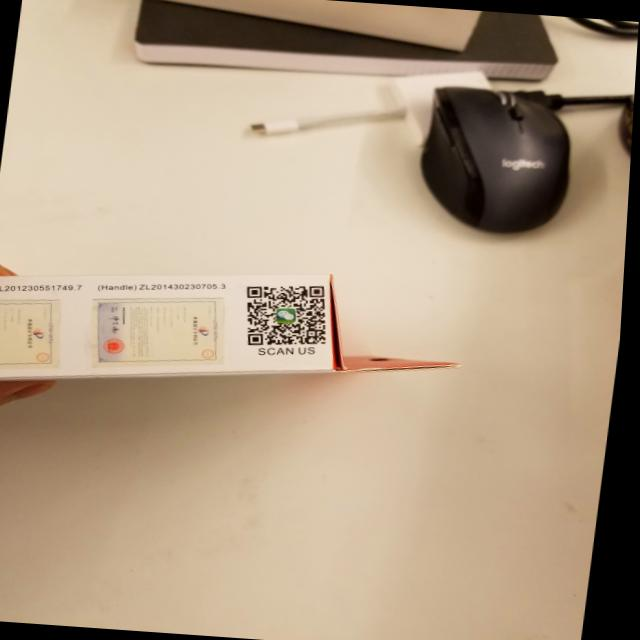QR_CODE: (229, 274, 353, 360)
